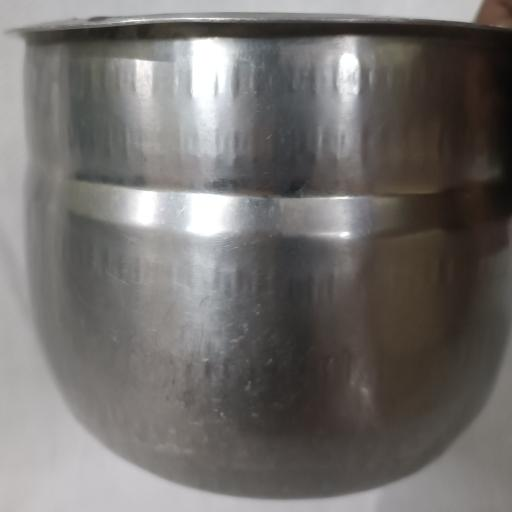vessel: (18, 14, 512, 498)
